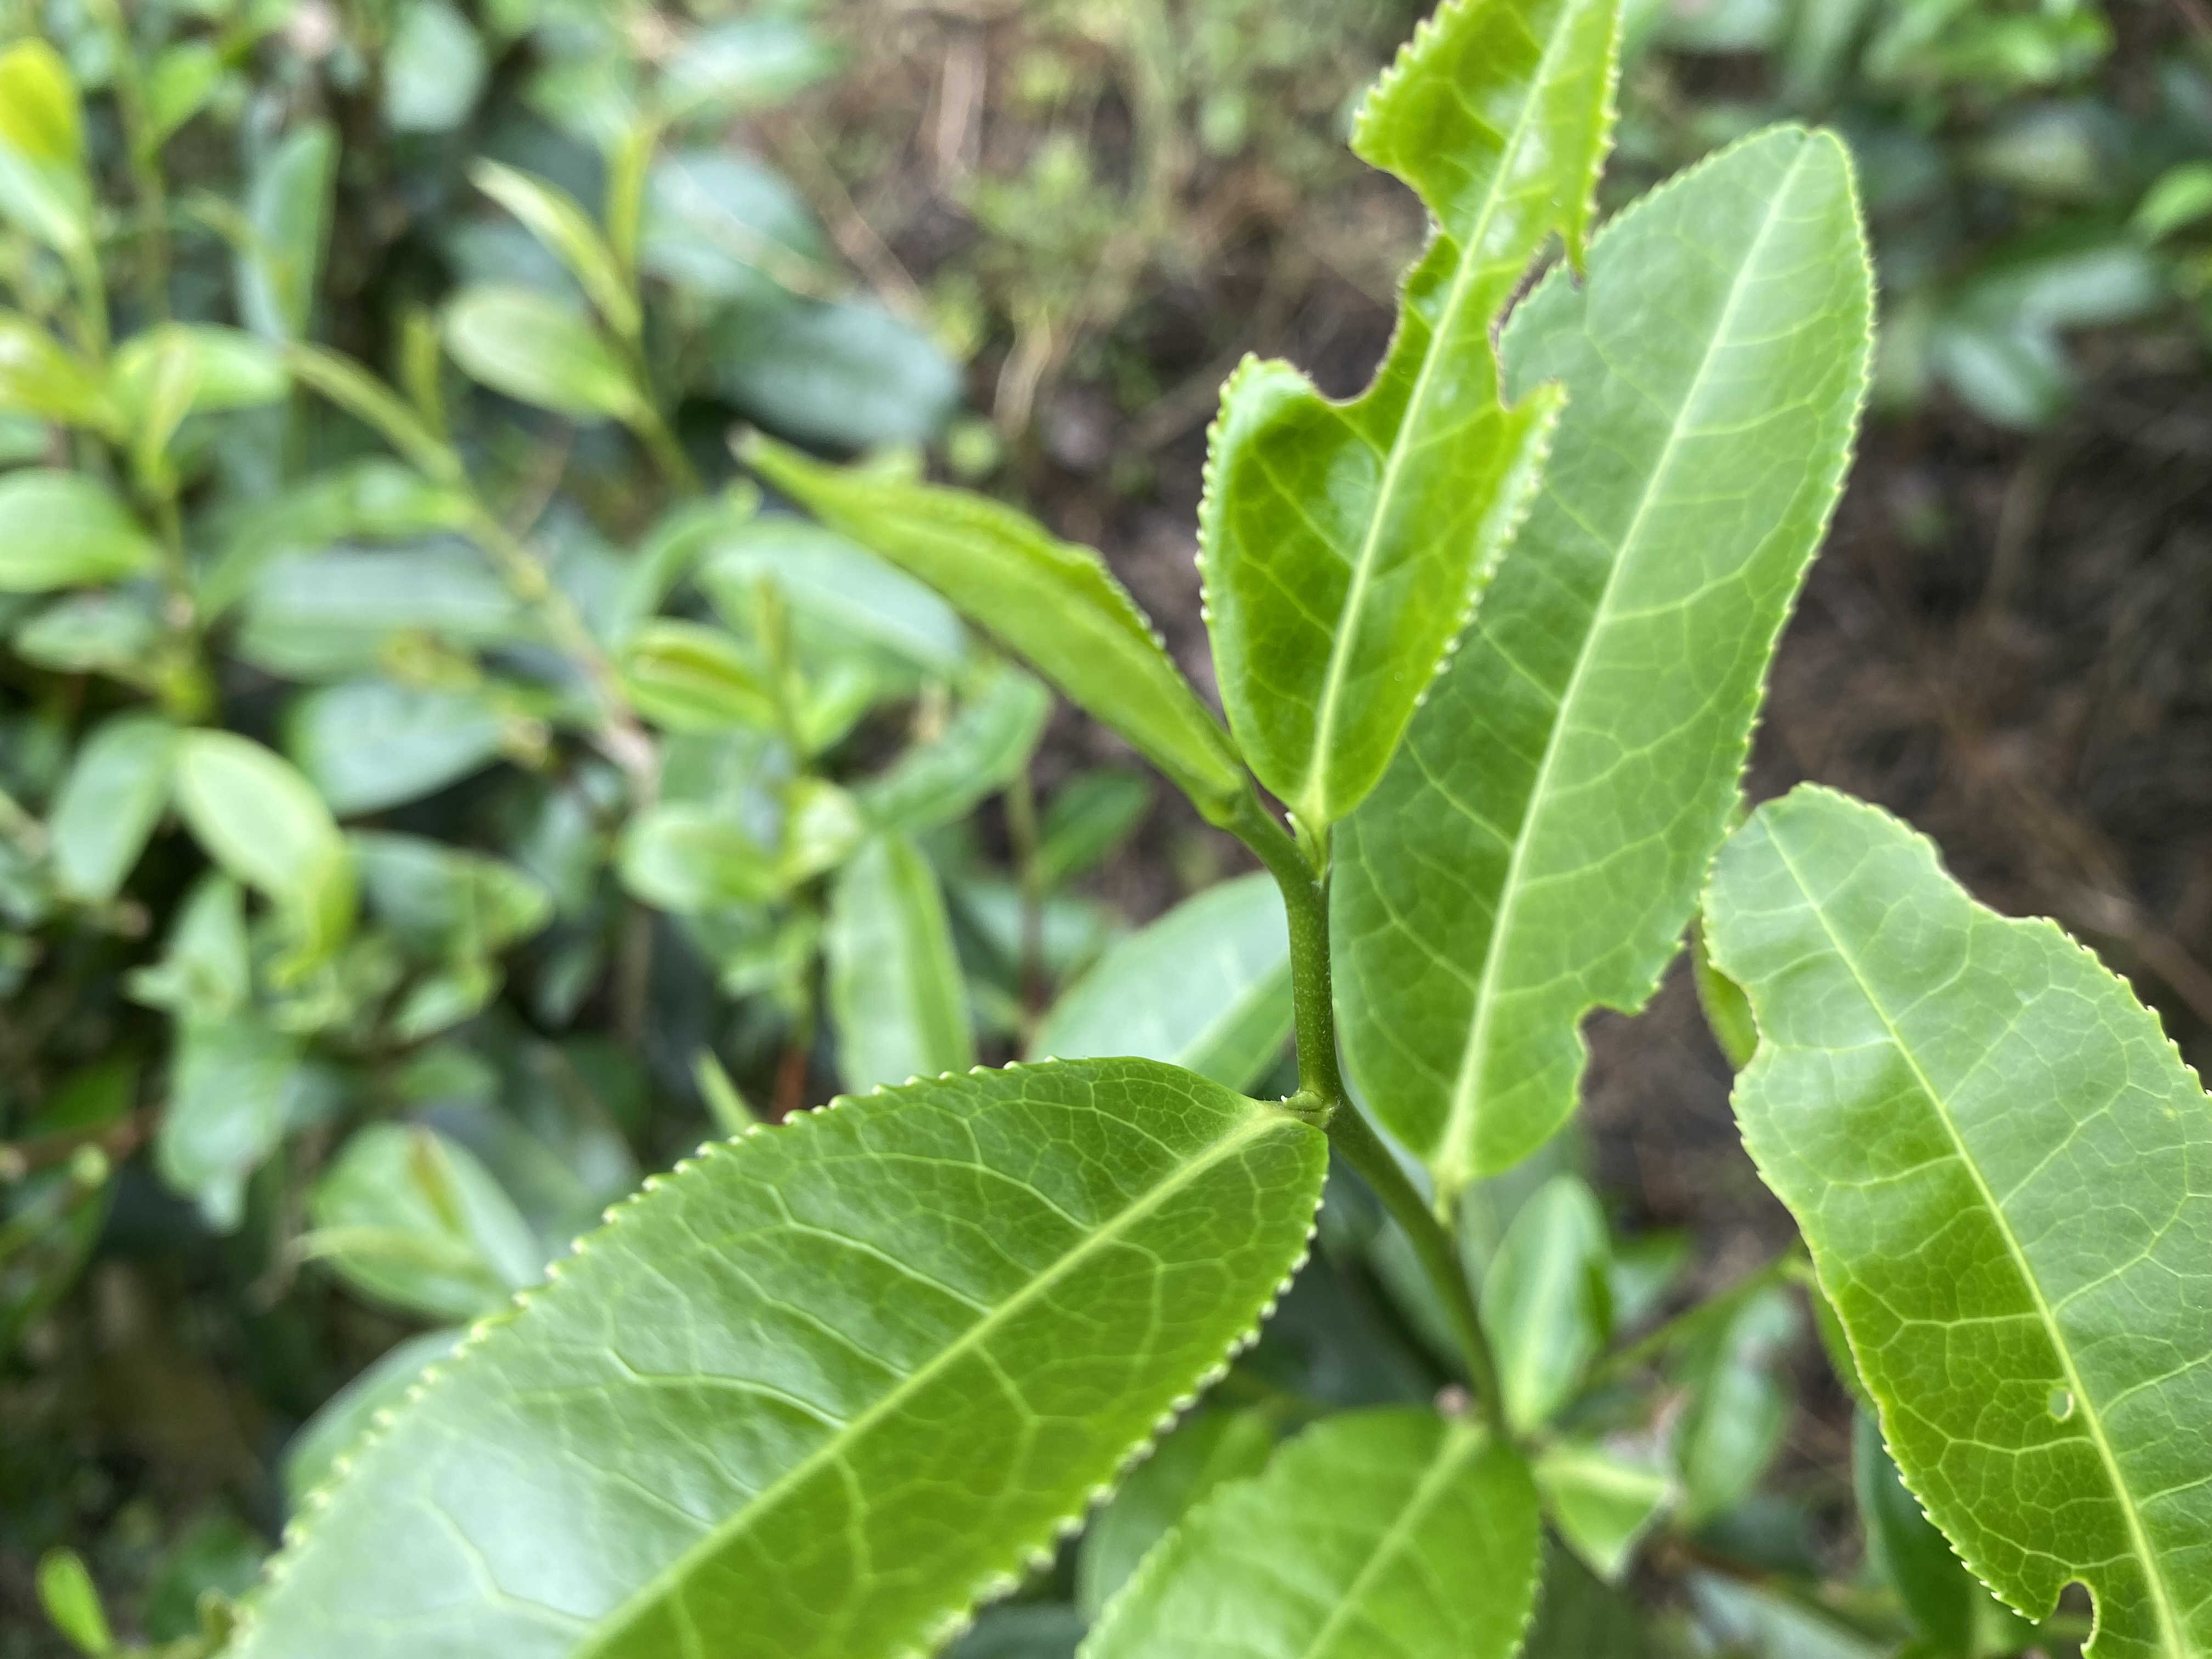chihuo_high: (1702, 777, 2209, 1657), (1191, 2, 1623, 830)
chihuo_low: (1331, 124, 1883, 1180)
healthy: (212, 1054, 1336, 1656)
